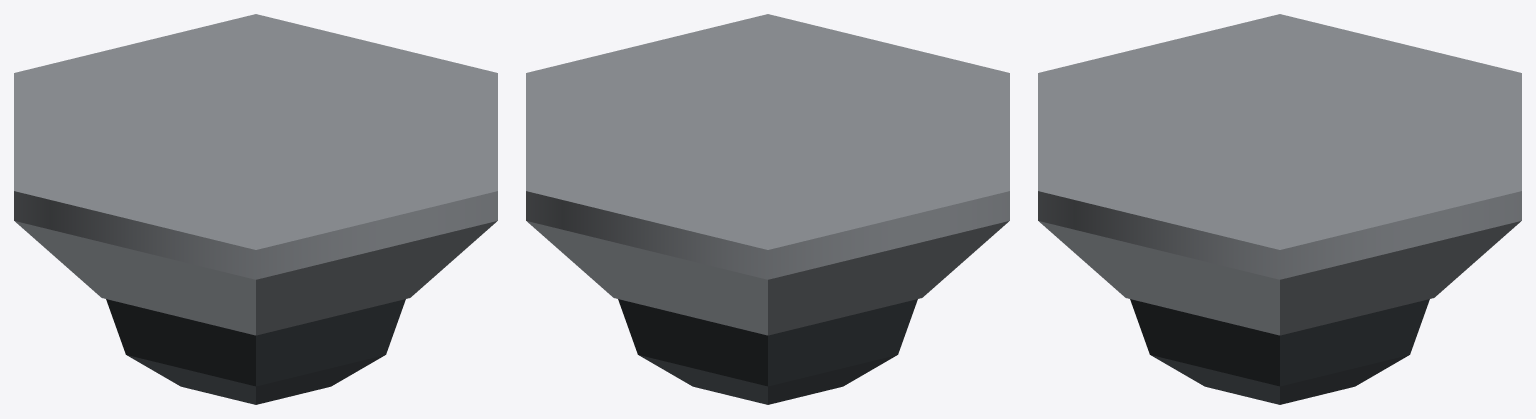
The model's file is SM_Prop_Camera.fbx.
3 renders of one model, left to right at view 1: azimuth 30°, elevation 25°; view 2: azimuth 150°, elevation 25°; view 3: azimuth 270°, elevation 25°, orthographic.
Parts seen in each view (by area): view 1: SM_Prop_Camera; view 2: SM_Prop_Camera; view 3: SM_Prop_Camera.
Boxes of the visible parts, box(x1,y1,x2,y2) form: SM_Prop_Camera: box(14, 14, 497, 404); SM_Prop_Camera: box(526, 14, 1009, 404); SM_Prop_Camera: box(1038, 14, 1521, 404).
Bounding box in the file's own units: 46.57 × 23.25 × 40.33.
1 material, 1 textured.
